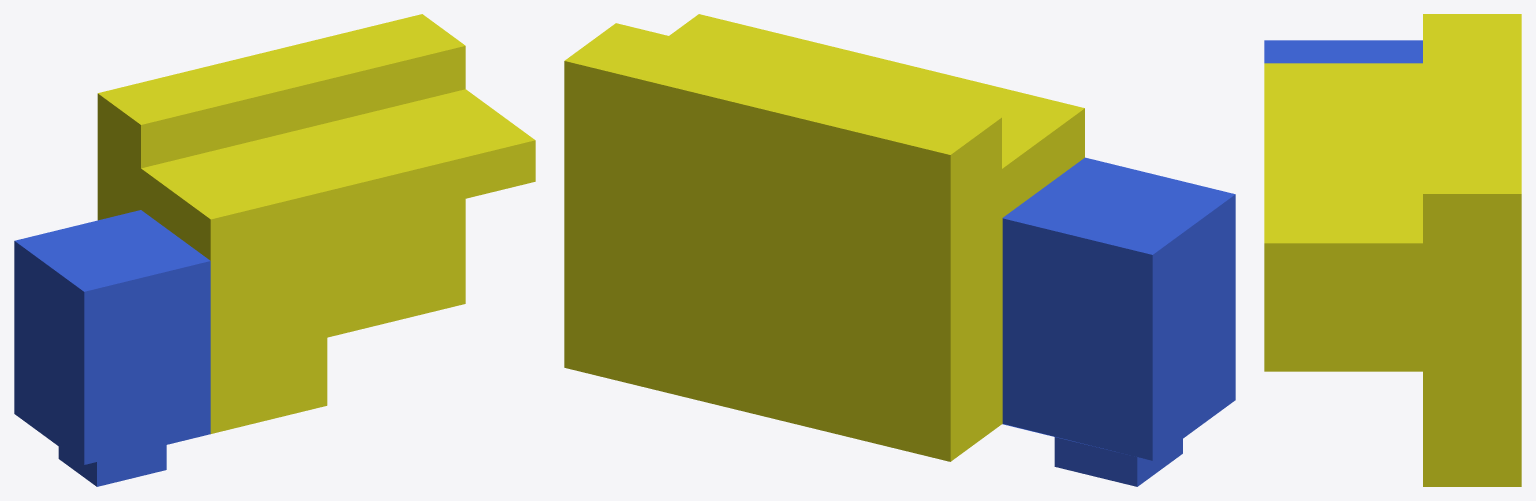
Rendered from converter.fbx.
3 views of the same model, side by side, from view 1: azimuth 30°, elevation 25°; view 2: azimuth 150°, elevation 25°; view 3: azimuth 270°, elevation 25° (orthographic). The views are drawn at different scales.
Parts seen in each view (by area): view 1: Cube; view 2: Cube; view 3: Cube.
Boxes of the visible parts, x1,y1,x2,y2 form: Cube: [14, 14, 535, 486]; Cube: [564, 14, 1235, 486]; Cube: [1264, 14, 1521, 486].
Bounding box in the file's own units: 366 × 231 × 159.
